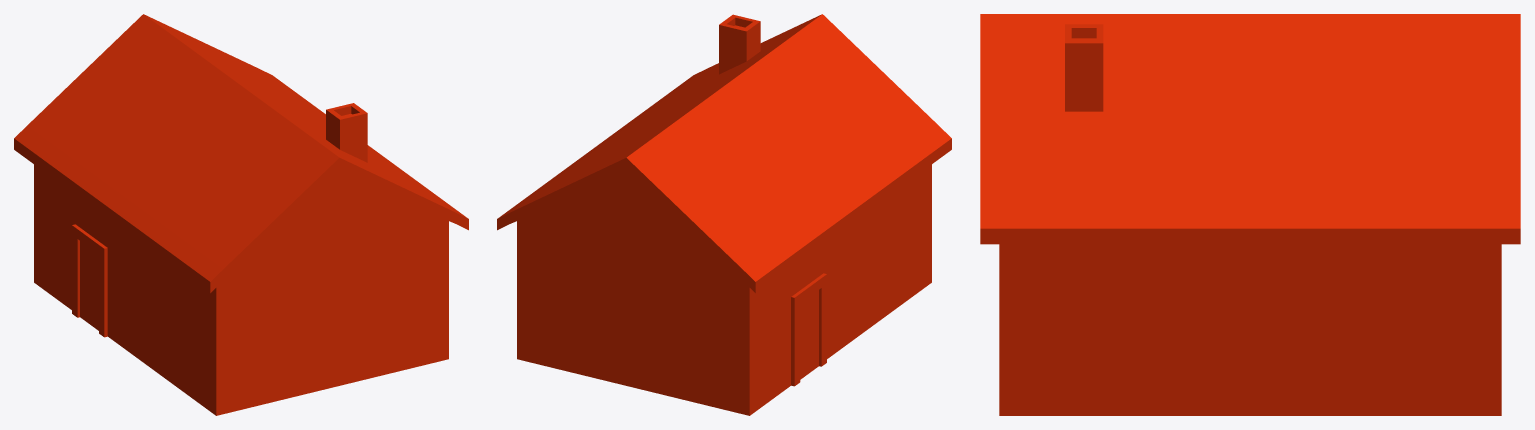
Rendered from plateau-hostel.glb.
3 renders of one model, left to right at view 1: azimuth 30°, elevation 25°; view 2: azimuth 150°, elevation 25°; view 3: azimuth 270°, elevation 25°, orthographic. The views are drawn at different scales.
Visible parts, largest first — view 1: Cube; view 2: Cube; view 3: Cube.
Part boxes in pixels (x1=…): Cube: x1=14, y1=14, x2=468, y2=415; Cube: x1=497, y1=14, x2=951, y2=415; Cube: x1=980, y1=14, x2=1520, y2=415.
Bounding box in the file's own units: 0.0773 × 0.0693 × 0.1016.
